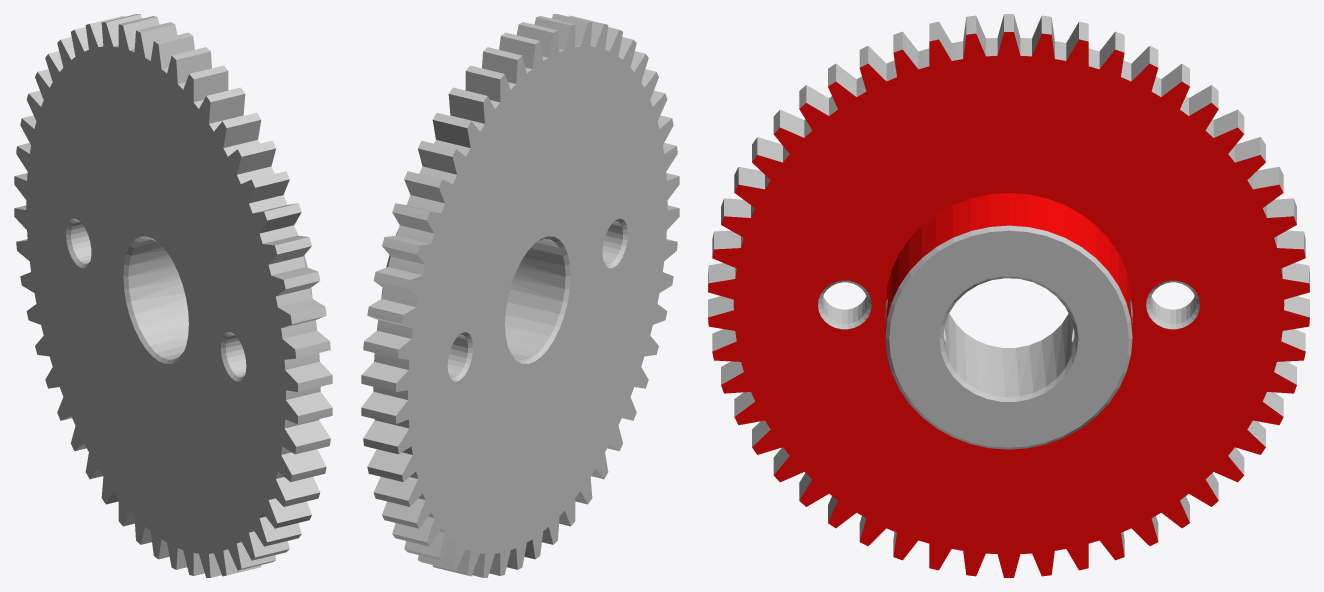
File: 963505_RW44_IT10_stp_54_205.obj
The picture shows the model from 3 angles, left to right: view 1: azimuth 30°, elevation 25°; view 2: azimuth 150°, elevation 25°; view 3: azimuth 270°, elevation 25°; orthographic projection. The views are drawn at different scales.
Visible parts, largest first — view 1: Object1; view 2: Object1; view 3: Object1.
Part boxes in pixels (x1=…): Object1: x1=14, y1=14, x2=332, y2=577; Object1: x1=361, y1=14, x2=679, y2=577; Object1: x1=708, y1=14, x2=1309, y2=577.
Bounding box in the file's own units: 16 × 78 × 77.92.
